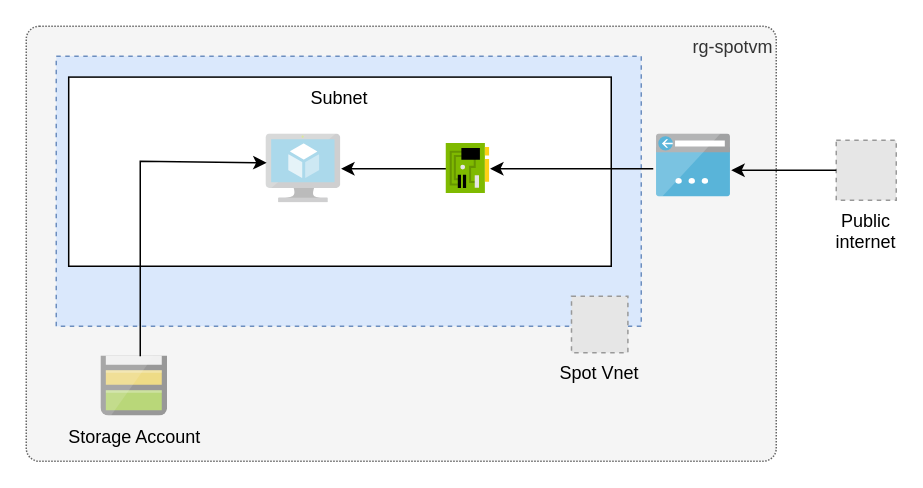
Image size: 923x488. Some labels were removed from this diagram. Grey dashed boxes stand in for pictures. The shapes that lost their labels are listed below. From the top down, each one's centre as x and y in pixels, then its label:
At point 303,168: "Spot VM".
At point 467,168: "NIC".
At point 693,165: "Public Ip".
